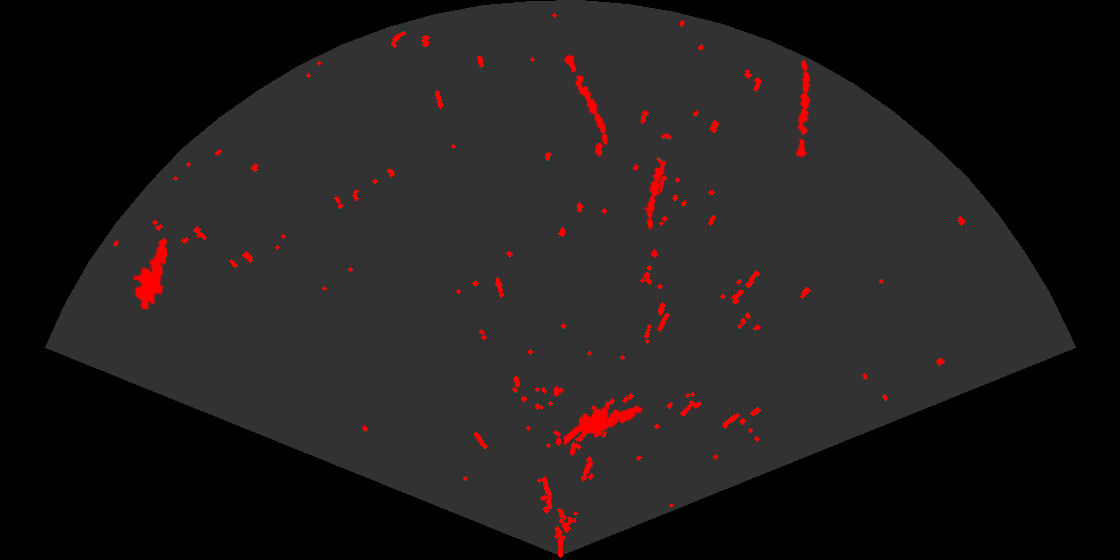chain: (562, 53, 609, 146), (645, 130, 673, 231), (795, 58, 812, 160)
frogman: (564, 404, 644, 447), (131, 236, 169, 309)
